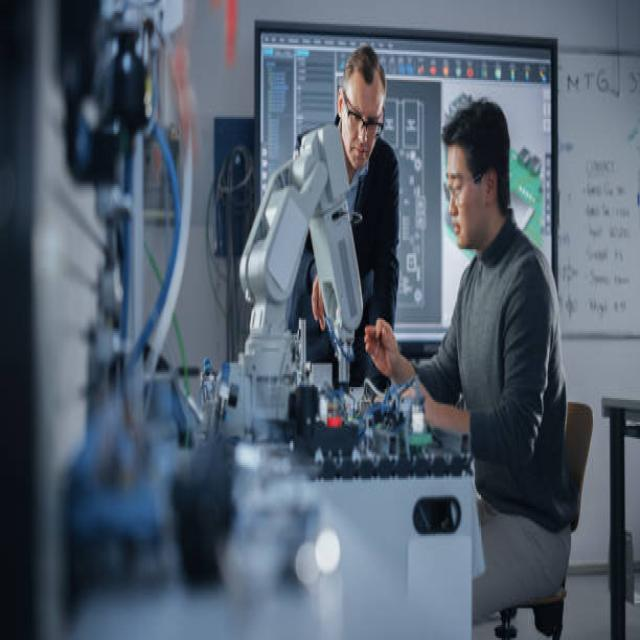Robotic-arm: (234, 119, 363, 423)
